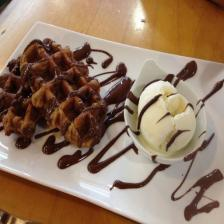ice cream: (135, 77, 198, 156)
waffles: (1, 32, 104, 158)
